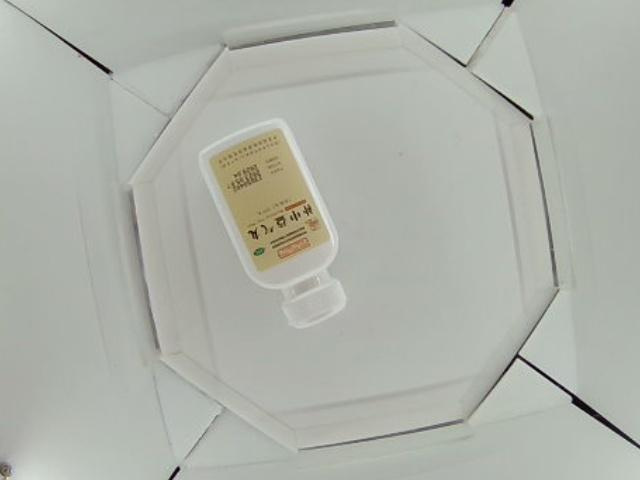Bottle: (195, 115, 350, 329)
